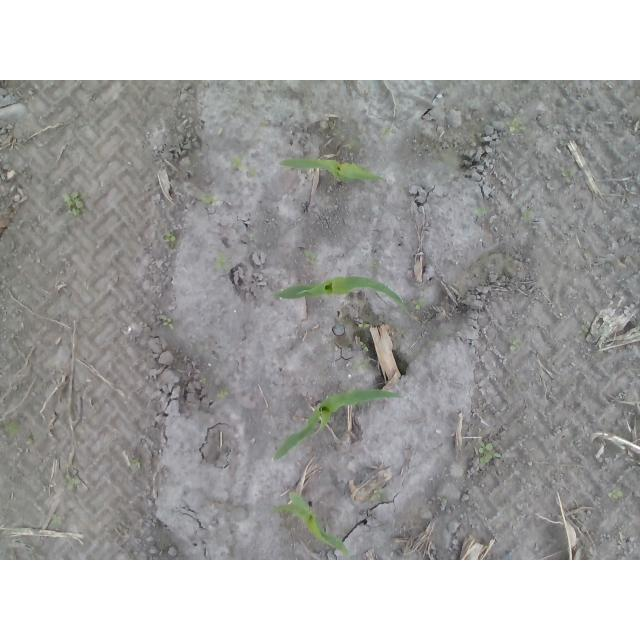Maize: (274, 388, 403, 457), (272, 489, 353, 560), (273, 277, 412, 315), (280, 157, 386, 184)
Weeds: (61, 191, 88, 218), (479, 439, 502, 465), (507, 116, 526, 132), (4, 419, 21, 435), (560, 165, 575, 183), (66, 474, 81, 491), (214, 253, 230, 268), (160, 315, 175, 330), (303, 250, 317, 266), (354, 357, 370, 371), (199, 192, 217, 204), (230, 156, 245, 170), (370, 489, 384, 504), (412, 297, 425, 310), (511, 337, 522, 351), (606, 490, 623, 499), (164, 231, 175, 244), (475, 207, 486, 218), (51, 513, 61, 524), (521, 209, 532, 219), (578, 324, 589, 334), (216, 390, 228, 399), (359, 341, 369, 351), (247, 168, 257, 178), (380, 128, 391, 137), (132, 457, 141, 467), (348, 139, 356, 149), (359, 323, 370, 329), (370, 261, 379, 267), (435, 496, 445, 501), (27, 438, 34, 445), (200, 377, 207, 383), (62, 464, 69, 469)
